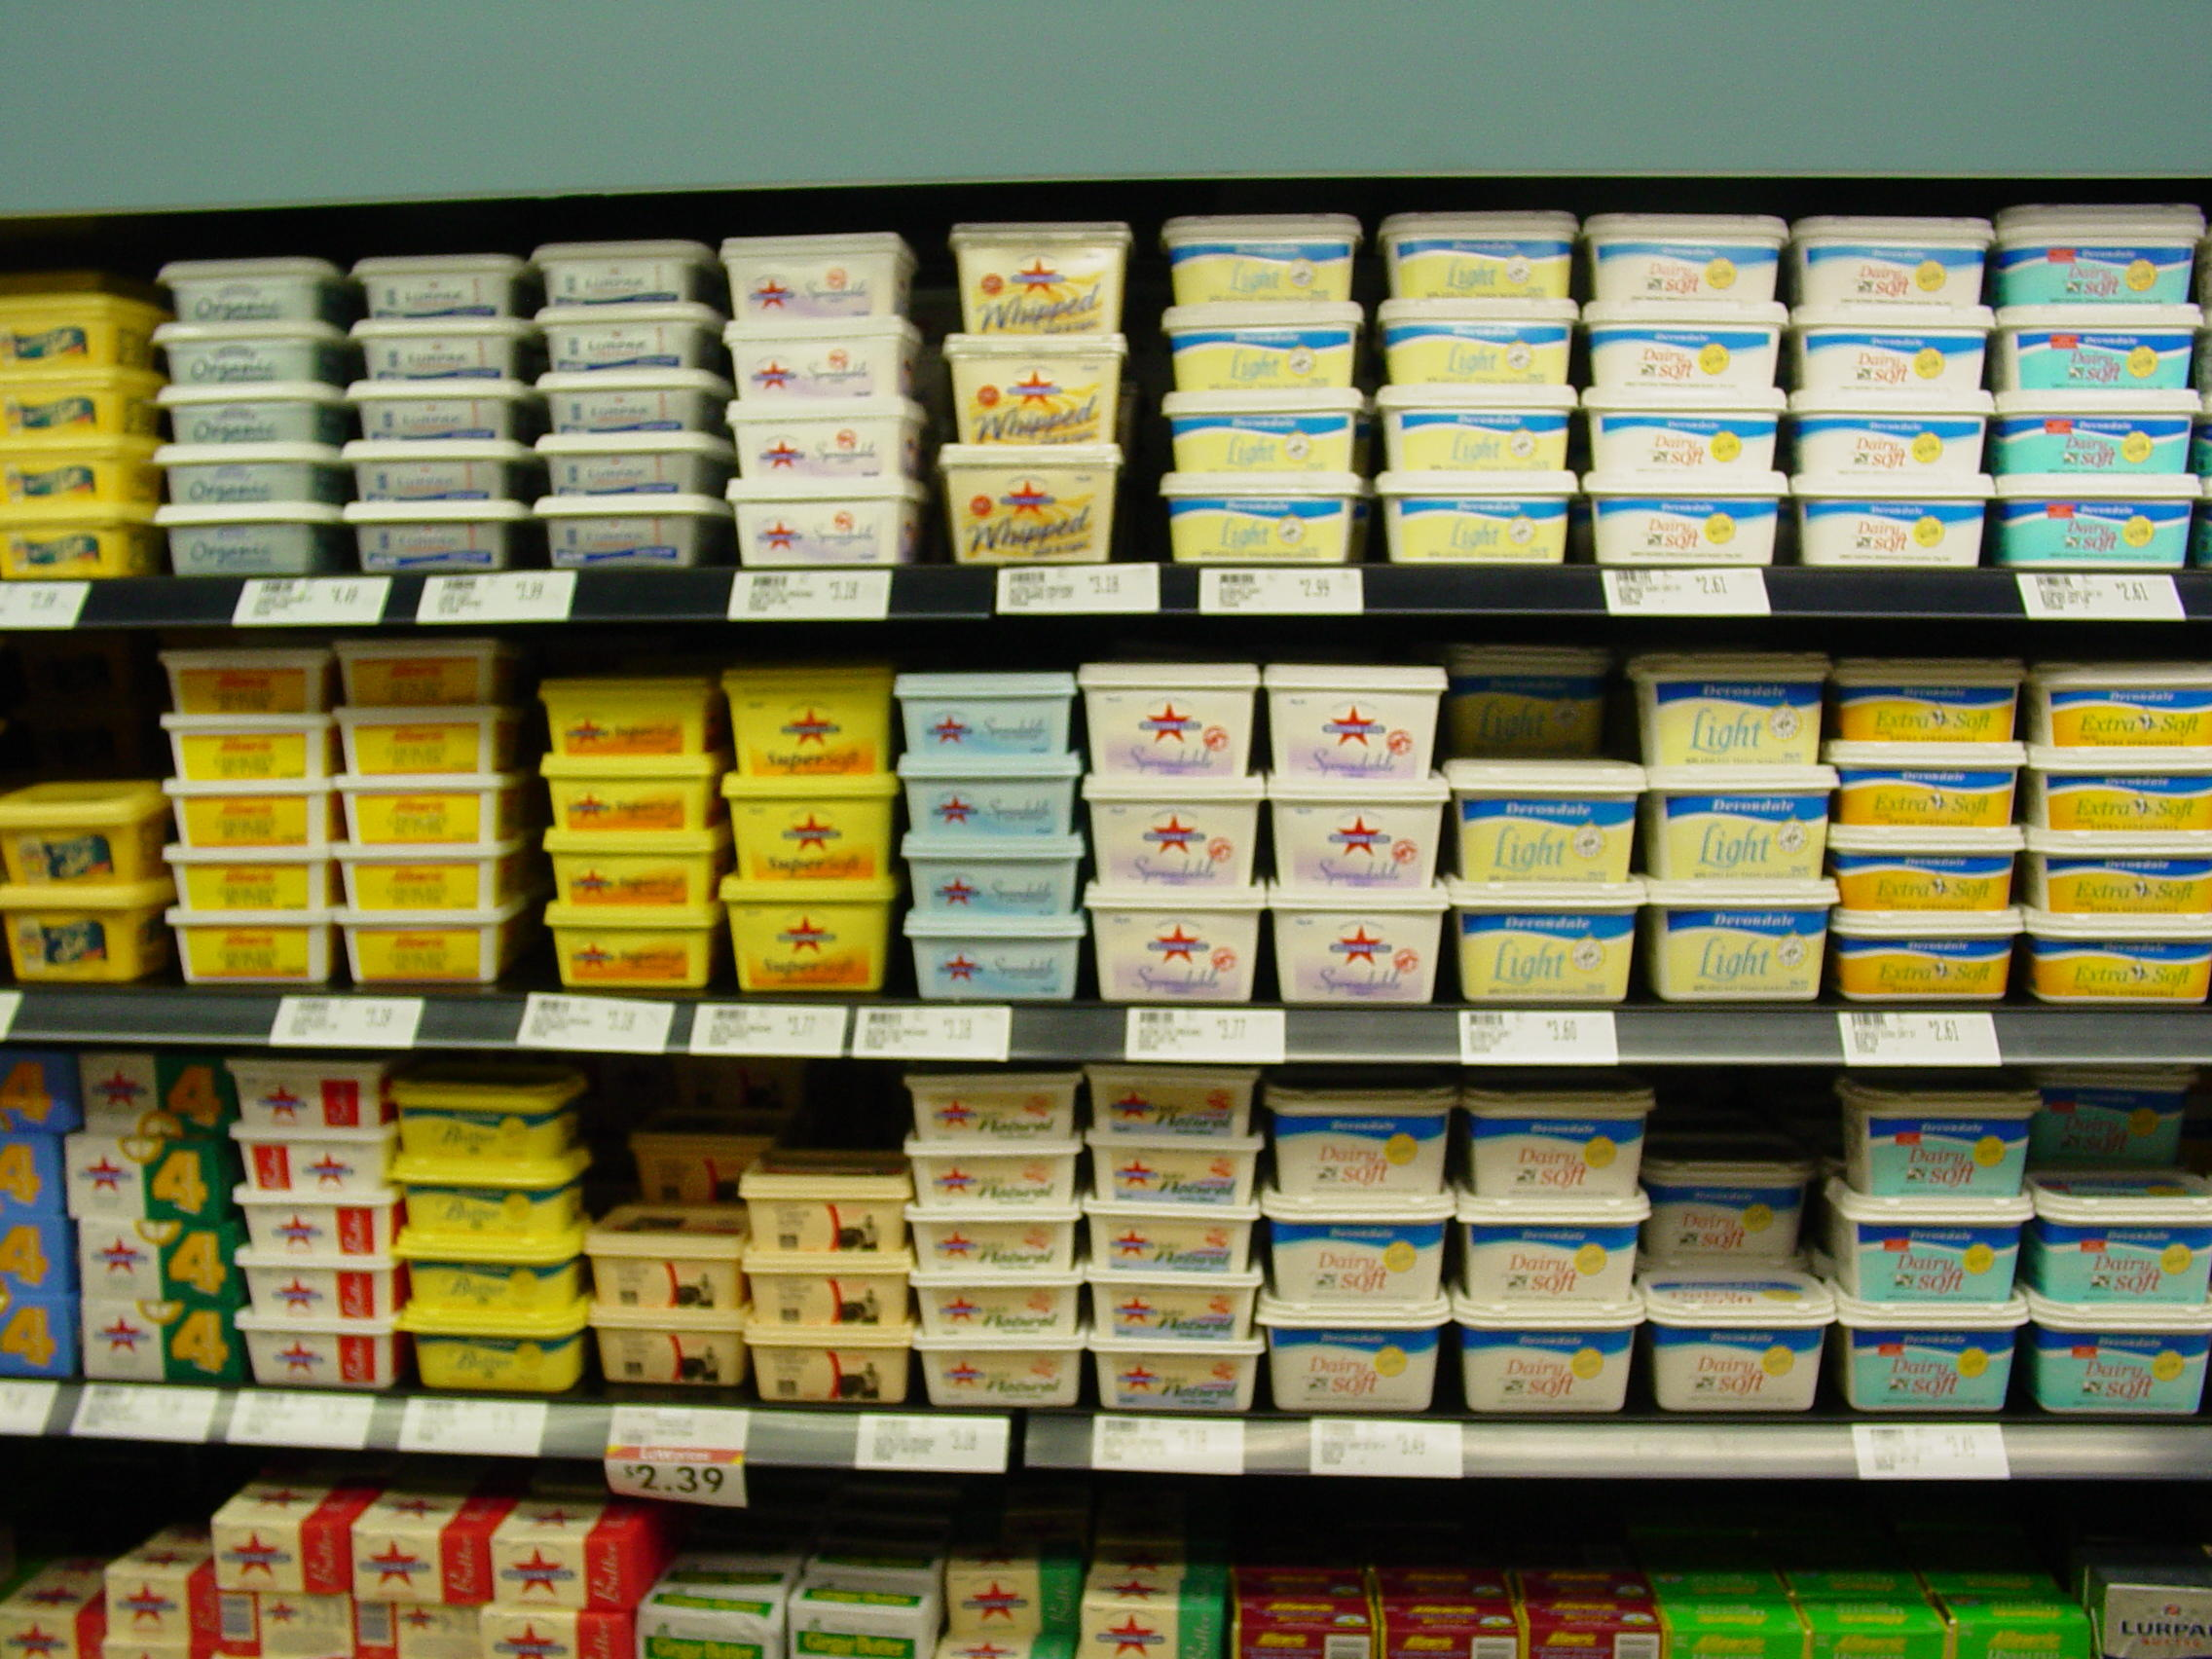Misplacement: (1433, 633, 1655, 1000), (1629, 1082, 1846, 1425), (580, 1061, 740, 1401)
